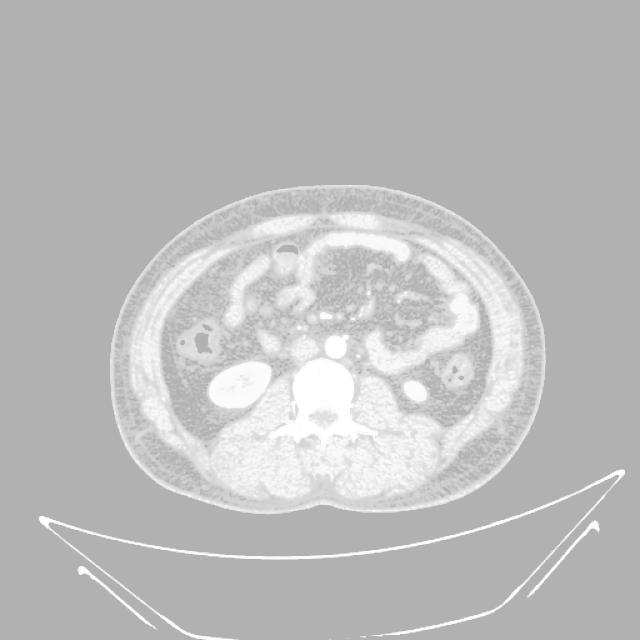NORMAL: (107, 177, 535, 522)
